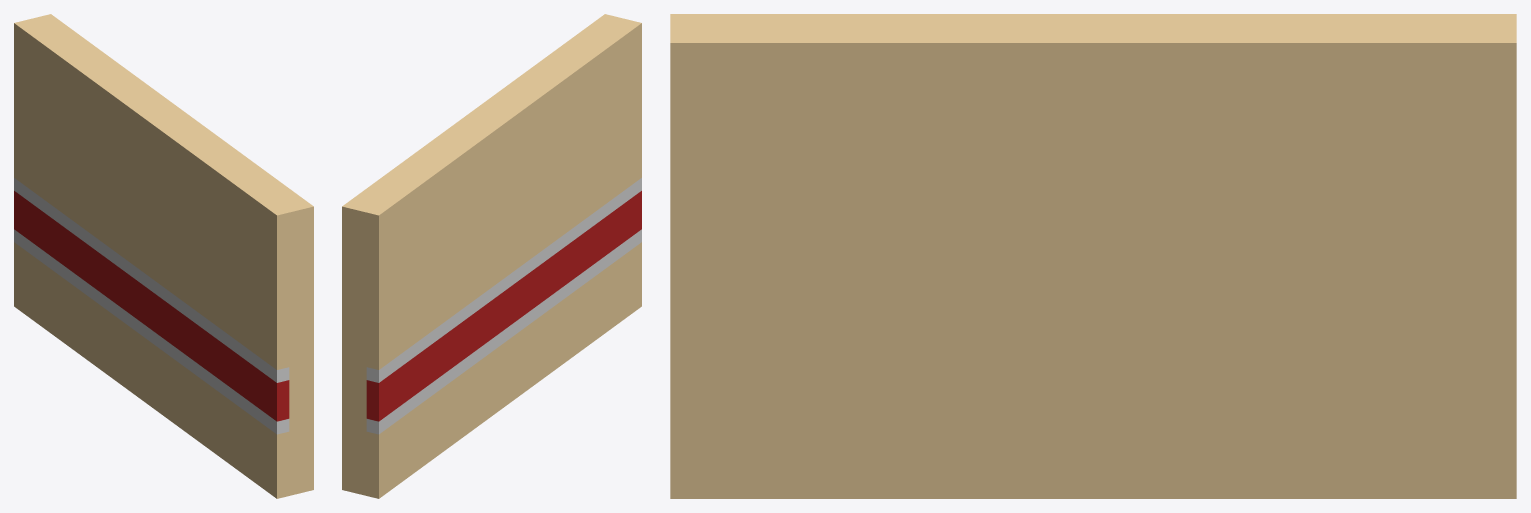
Rendered from wall.obj.
The picture shows the model from 3 angles, left to right: view 1: azimuth 30°, elevation 25°; view 2: azimuth 150°, elevation 25°; view 3: azimuth 270°, elevation 25°; orthographic projection. The views are drawn at different scales.
Size of the model in its own units: 0.3 by 2.2 by 3.7.
Materials: 1 (1 with a texture image).
